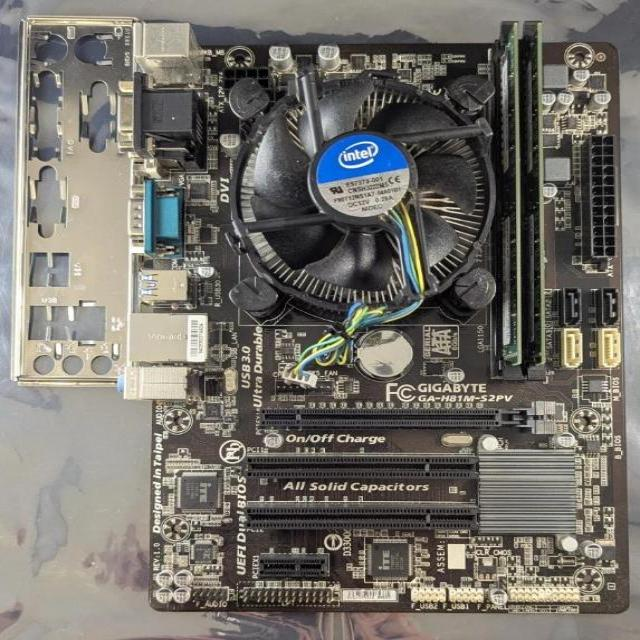CPU_Fan: (223, 64, 492, 322)
RAM: (524, 21, 548, 370), (500, 21, 524, 368)
